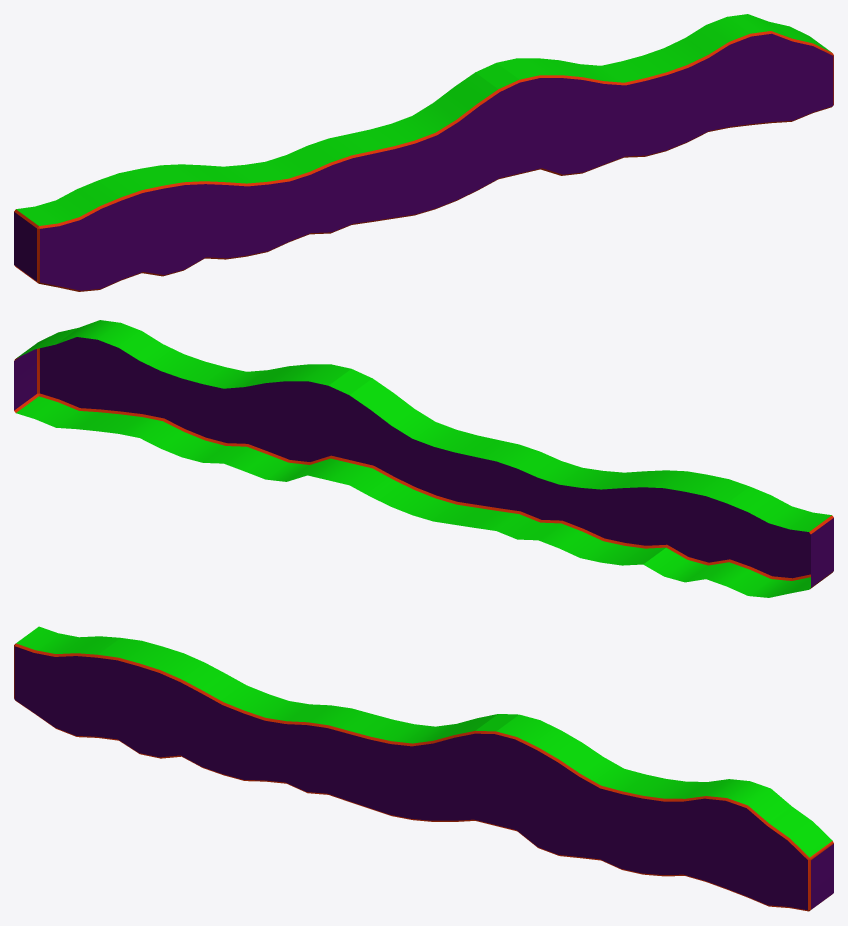
File: Floating Piece 6.fbx
3 renders of one model, top to bottom at view 1: azimuth 30°, elevation 25°; view 2: azimuth 150°, elevation 25°; view 3: azimuth 330°, elevation 25°, orthographic.
Parts seen in each view (by area): view 1: Floating_piece_6; view 2: Floating_piece_6; view 3: Floating_piece_6.
Boxes of the visible parts, x1,y1,x2,y2 form: Floating_piece_6: (14,14,833,291); Floating_piece_6: (14,320,833,597); Floating_piece_6: (14,626,833,911).
Size of the model in its own units: 38 by 5.06 by 2.
